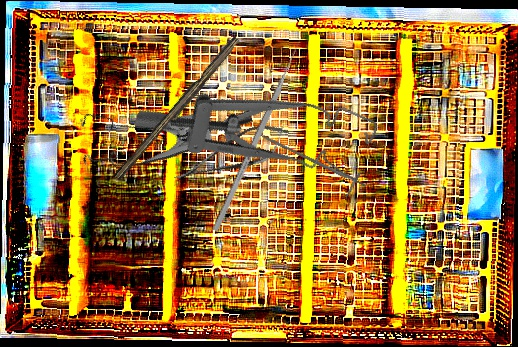Micro Scissor: (167, 113, 296, 196)
Pusher: (212, 37, 304, 232)
Scalpel Handle: (113, 34, 243, 184), (258, 132, 367, 189)
Speculum: (132, 34, 382, 217), (64, 47, 255, 201)
